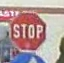stop: (8, 11, 47, 51)
